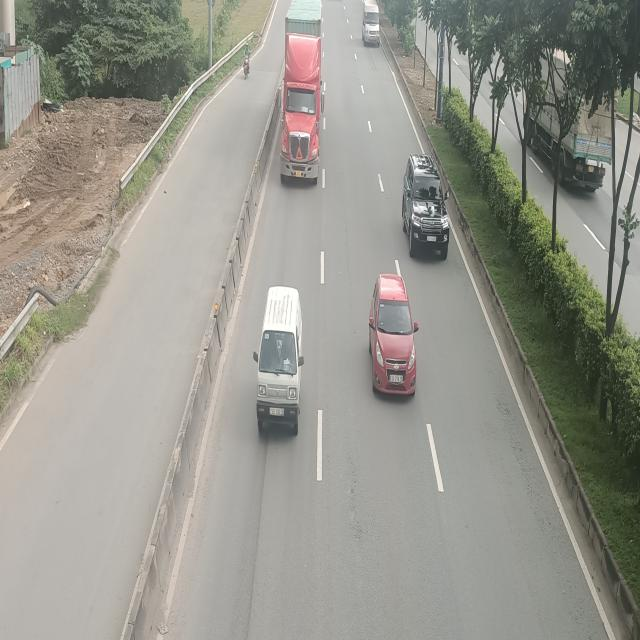car: (368, 274, 420, 396), (402, 153, 451, 260)
container: (277, 0, 325, 184)
van: (254, 286, 304, 435), (362, 0, 380, 46)
